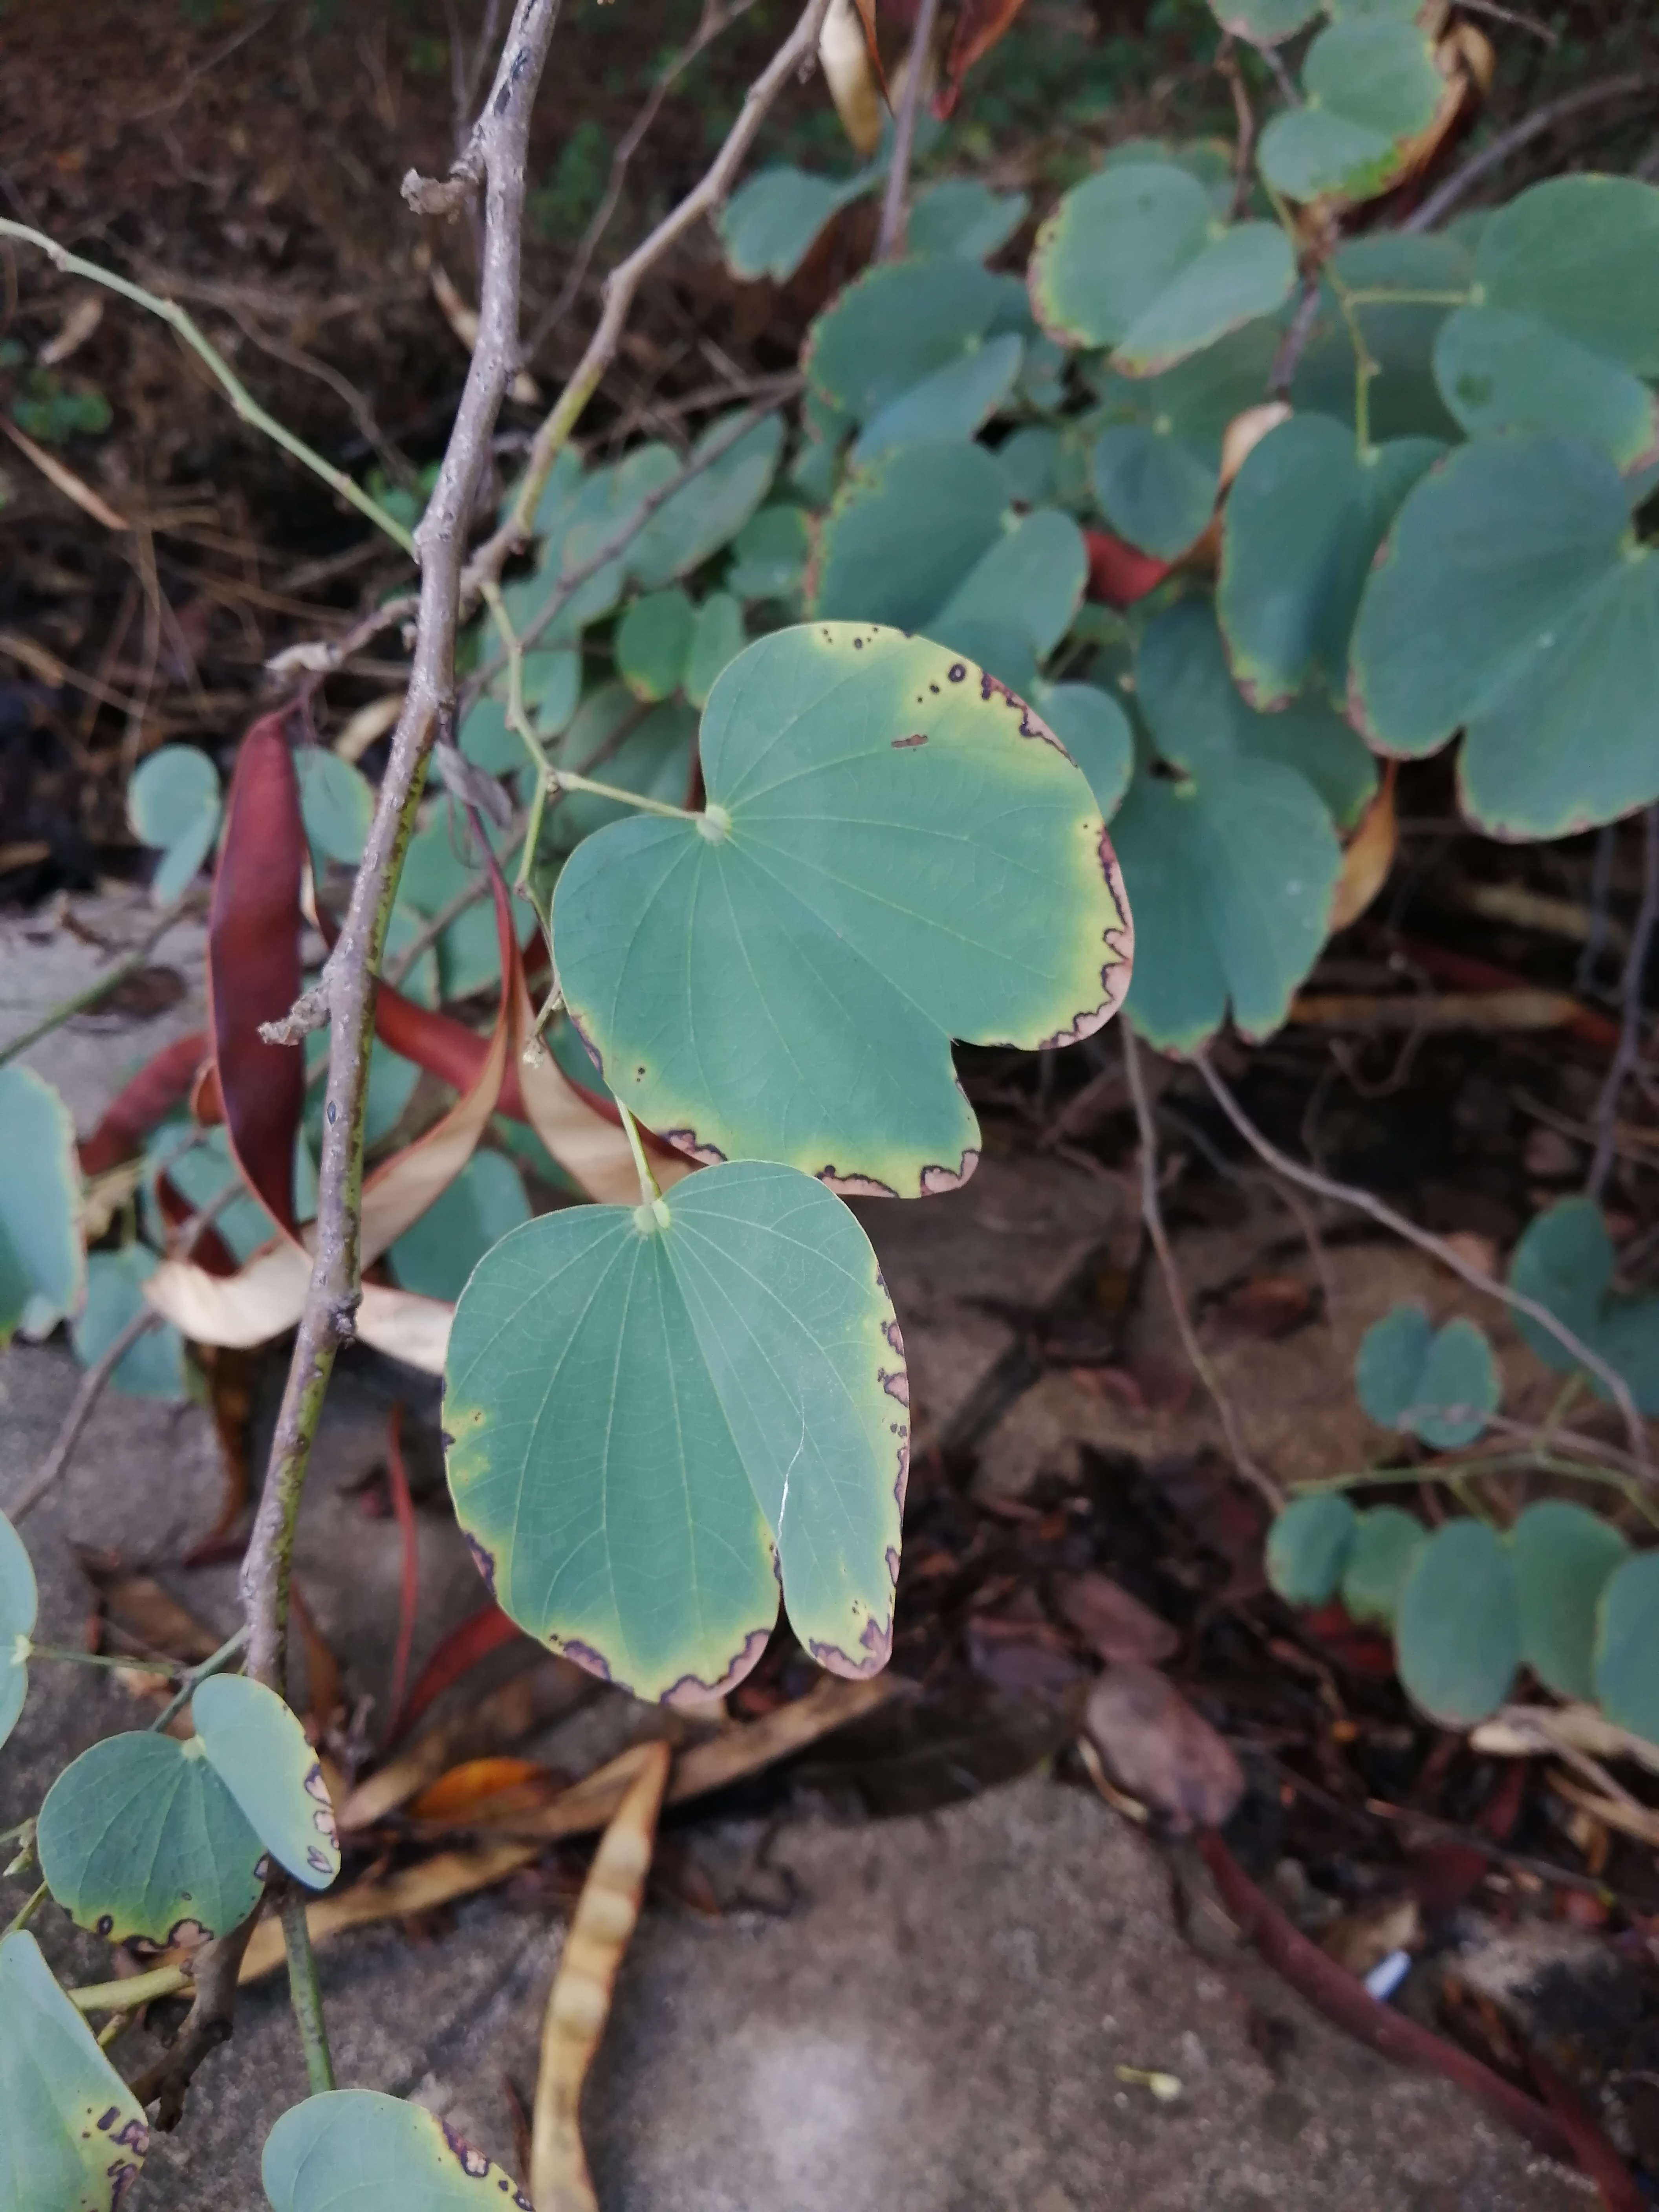nothealthy: (420, 1066, 1019, 1700), (538, 571, 1138, 1190), (30, 1656, 383, 2006)
